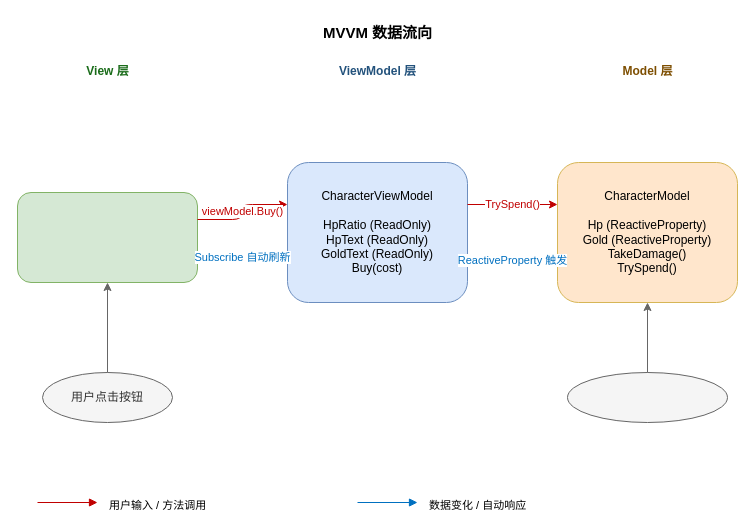
Image size: 755x531. Some labels were removed from this diagram. The shapes that lost their labels are listed below. From the top down, each one's centre as x and y in pixels, then its label:
At pixel 107 237: "CharacterPanelForm _hpBar, _hpText, _goldText Subscribe(ViewModel)".
At pixel 647 397: "战斗系统 model.TakeDamage()".
